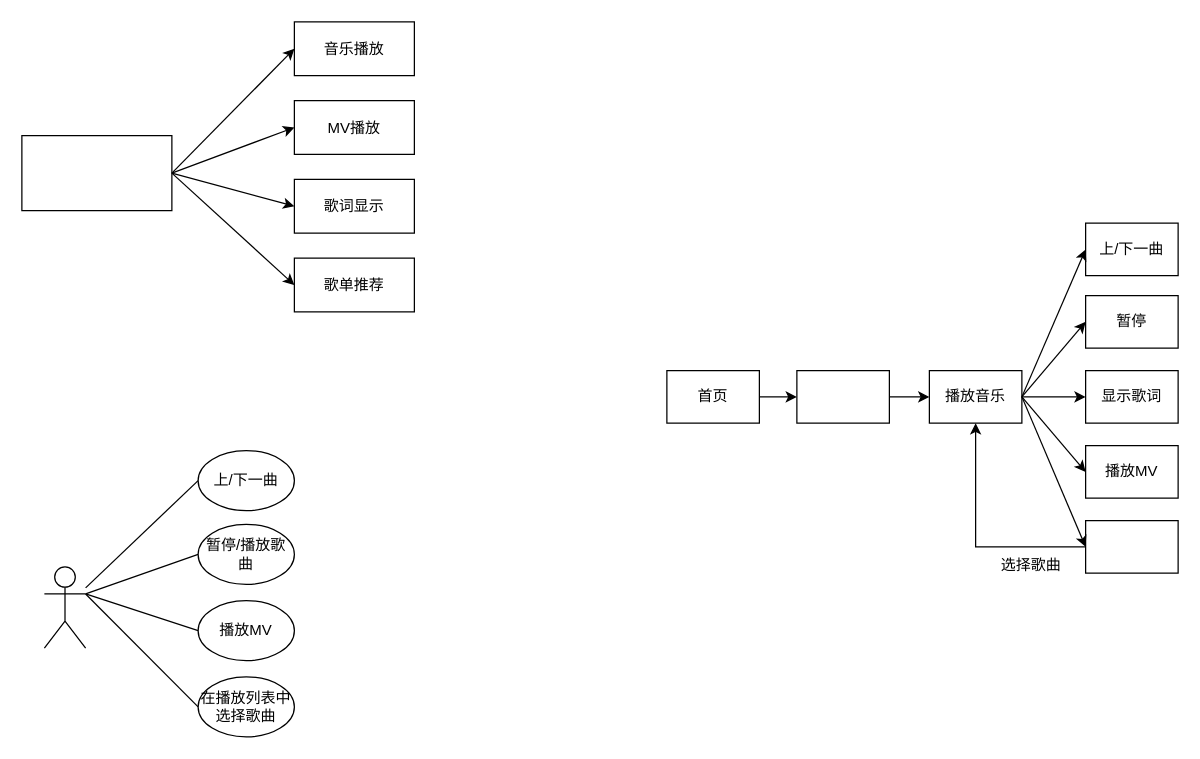
Some shapes in this 1200 by 759 pixel diagram are drawn without their labels. Here are the shapes that lost their labels. From the top down, the centre of each, then its label:
point 96,172: 网易云音乐app
point 842,396: 选择歌单
point 1131,546: 播放列表
point 64,607: 用户
